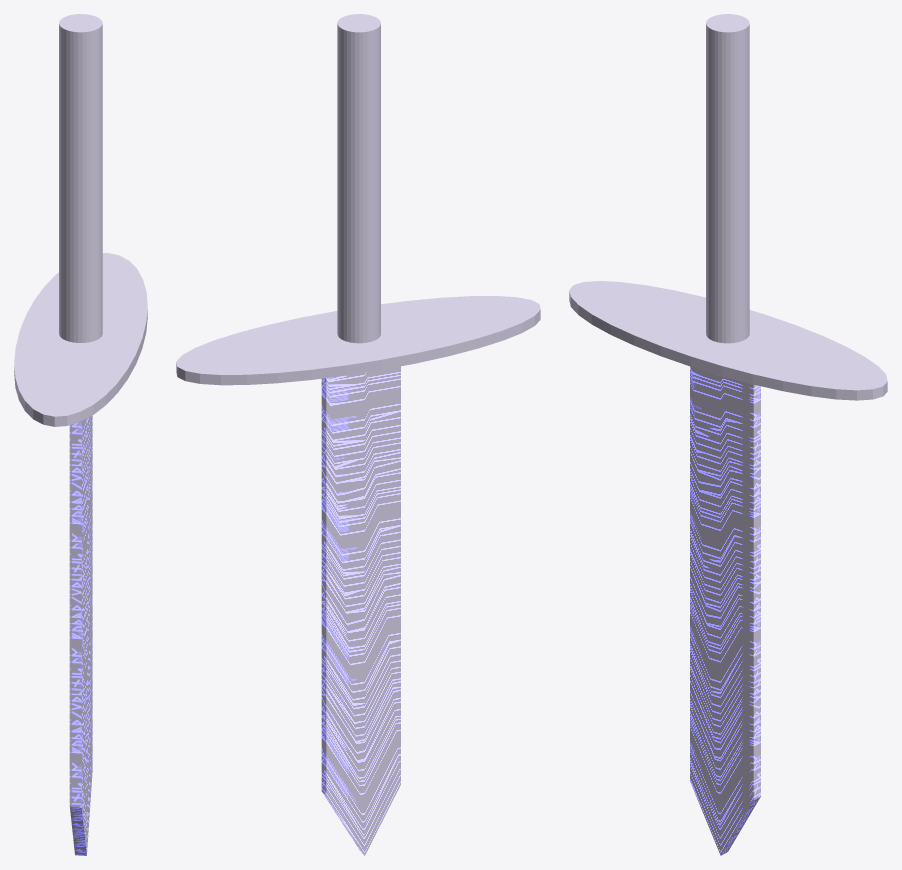
The model's file is sword.glb.
The picture shows the model from 3 angles, left to right: view 1: azimuth 30°, elevation 25°; view 2: azimuth 150°, elevation 25°; view 3: azimuth 270°, elevation 25°; orthographic projection.
Parts seen in each view (by area): view 1: 柱体.001, 柱体, Cube; view 2: Cube, 柱体, 柱体.001; view 3: Cube, 柱体, 柱体.001.
Boxes of the visible parts, left/top/right/bottom form: 柱体.001: left=59, top=14, right=102, bottom=342; 柱体: left=14, top=253, right=147, bottom=426; Cube: left=69, top=415, right=92, bottom=855; Cube: left=321, top=366, right=400, bottom=855; 柱体: left=176, top=296, right=540, bottom=385; 柱体.001: left=337, top=14, right=380, bottom=343; Cube: left=690, top=366, right=760, bottom=855; 柱体: left=569, top=281, right=887, bottom=400; 柱体.001: left=706, top=14, right=749, bottom=343.
Bounding box in the file's own units: 4.17 × 14.79 × 5.14.
